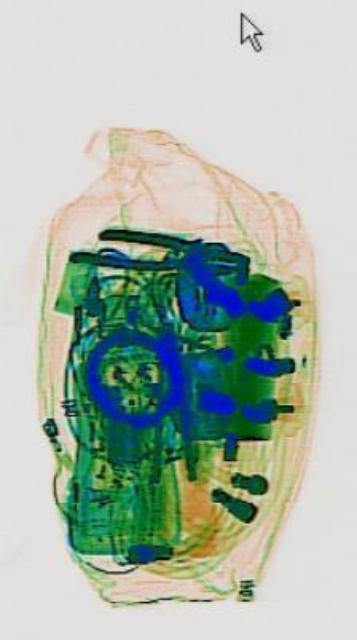Pliers: (66, 220, 249, 280)
